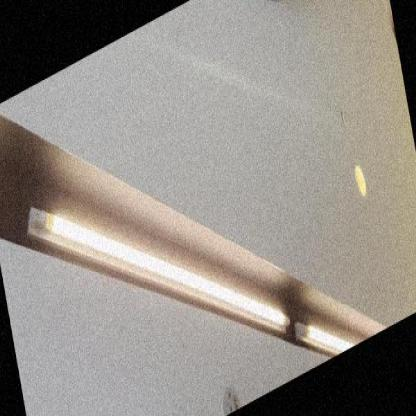light_on: (15, 85, 292, 415), (297, 296, 356, 372)
